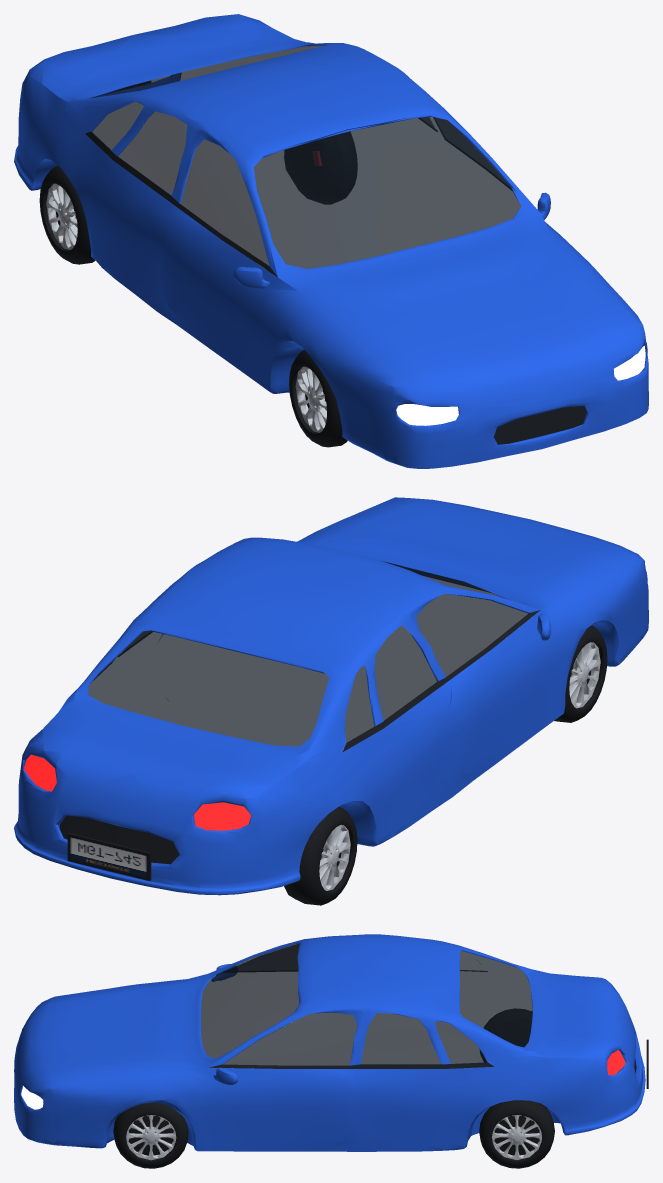
The model's file is compact.glb.
3 renders of one model, top to bottom at view 1: azimuth 30°, elevation 25°; view 2: azimuth 150°, elevation 25°; view 3: azimuth 270°, elevation 25°, orthographic. The views are drawn at different scales.
Visible parts, largest first — view 1: object 1; view 2: object 1, object 10; view 3: object 1.
Part boxes in pixels (box(x1,y1,x2,y2)): object 1: box(14, 14, 648, 468); object 1: box(14, 497, 648, 905); object 10: box(67, 832, 151, 880); object 1: box(14, 934, 645, 1168).
Size of the model in its own units: 1.78 by 1.16 by 4.23.
11 materials, 1 textured.
